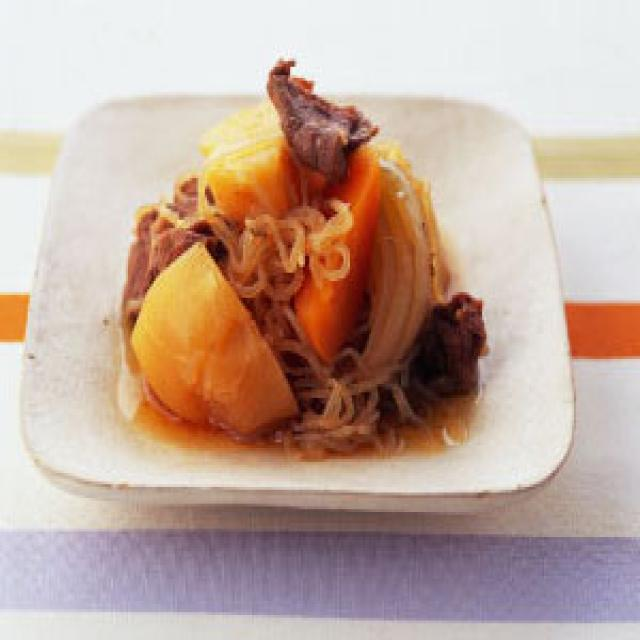牛肉菜式: (20, 67, 582, 520)
